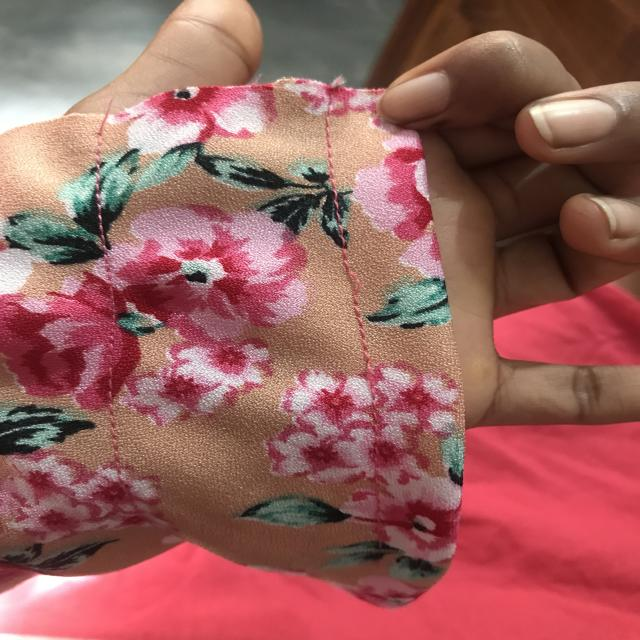skip: (329, 258, 373, 303)
